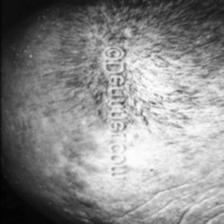Unclassified: (64, 140, 112, 180), (65, 186, 92, 209)
